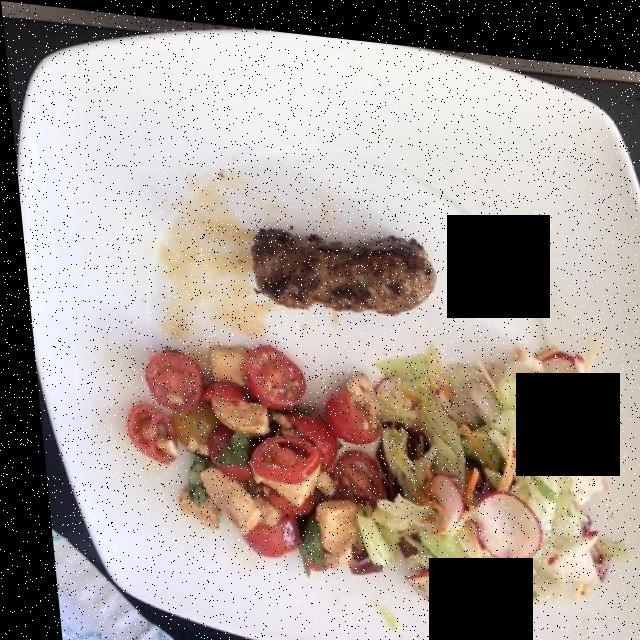salad: (359, 337, 599, 600), (123, 342, 369, 570)
